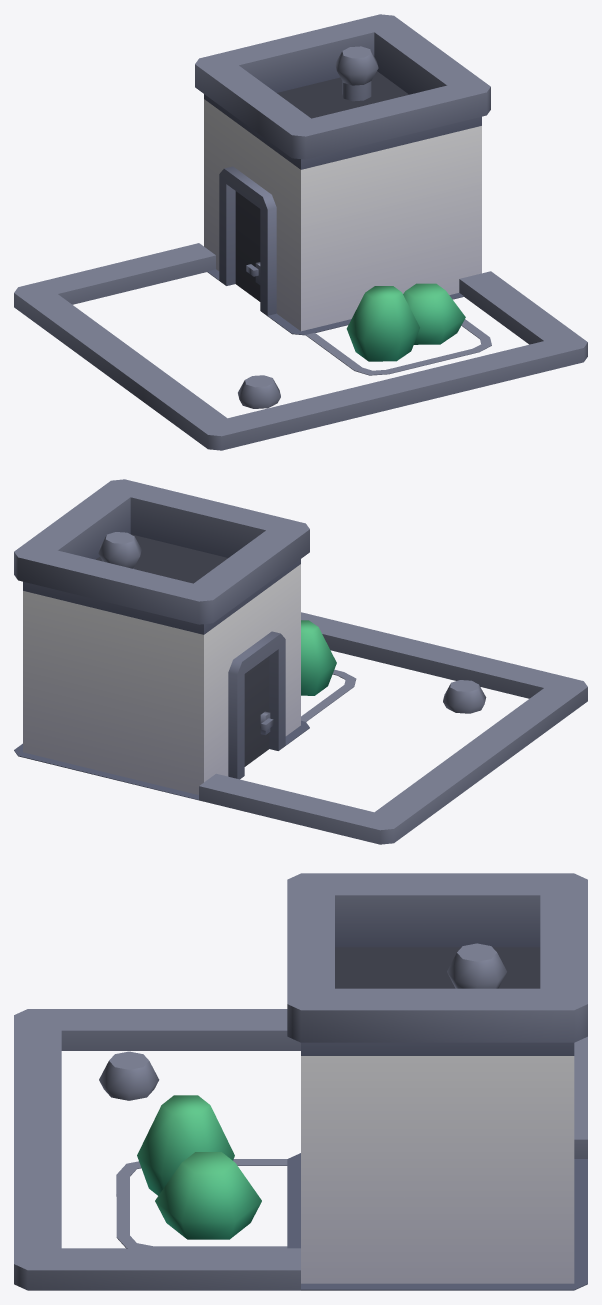
File: commercial-d.glb
The picture shows the model from 3 angles, top to bottom: view 1: azimuth 30°, elevation 25°; view 2: azimuth 150°, elevation 25°; view 3: azimuth 270°, elevation 25°; orthographic projection. The views are drawn at different scales.
Parts seen in each view (by area): view 1: building-d; view 2: building-d; view 3: building-d.
Part boxes in pixels (bbox=[...]): building-d: bbox=[14, 14, 587, 450]; building-d: bbox=[14, 479, 587, 844]; building-d: bbox=[14, 873, 587, 1290].
Bounding box in the file's own units: 14 × 7.21 × 13.
1 material, 1 textured.
